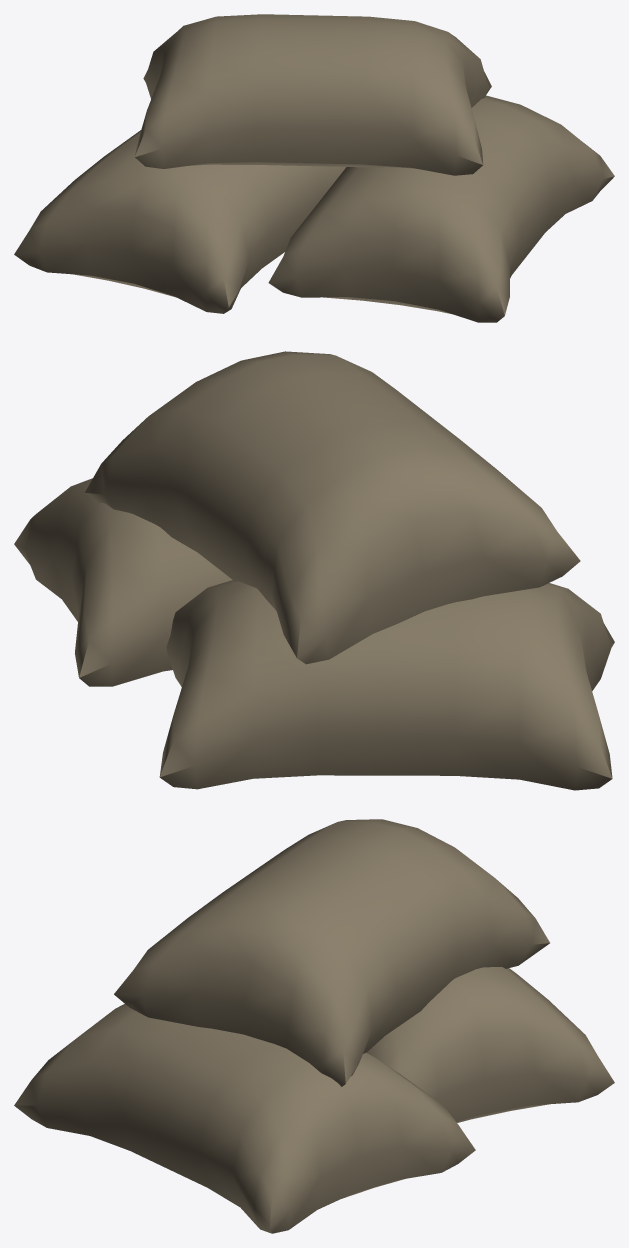
Rendered from Bags_Quaternius_gzvyAQ.glb.
3 renders of one model, top to bottom at view 1: azimuth 30°, elevation 25°; view 2: azimuth 150°, elevation 25°; view 3: azimuth 270°, elevation 25°, orthographic. The views are drawn at different scales.
Visible parts, largest first — view 1: Bags; view 2: Bags; view 3: Bags.
Boxes of the visible parts, x1=… form: Bags: x1=14, y1=14, x2=614, y2=322; Bags: x1=14, y1=351, x2=614, y2=790; Bags: x1=14, y1=819, x2=614, y2=1233.
Bounding box in the file's own units: 0.3 × 0.1191 × 0.2661.
